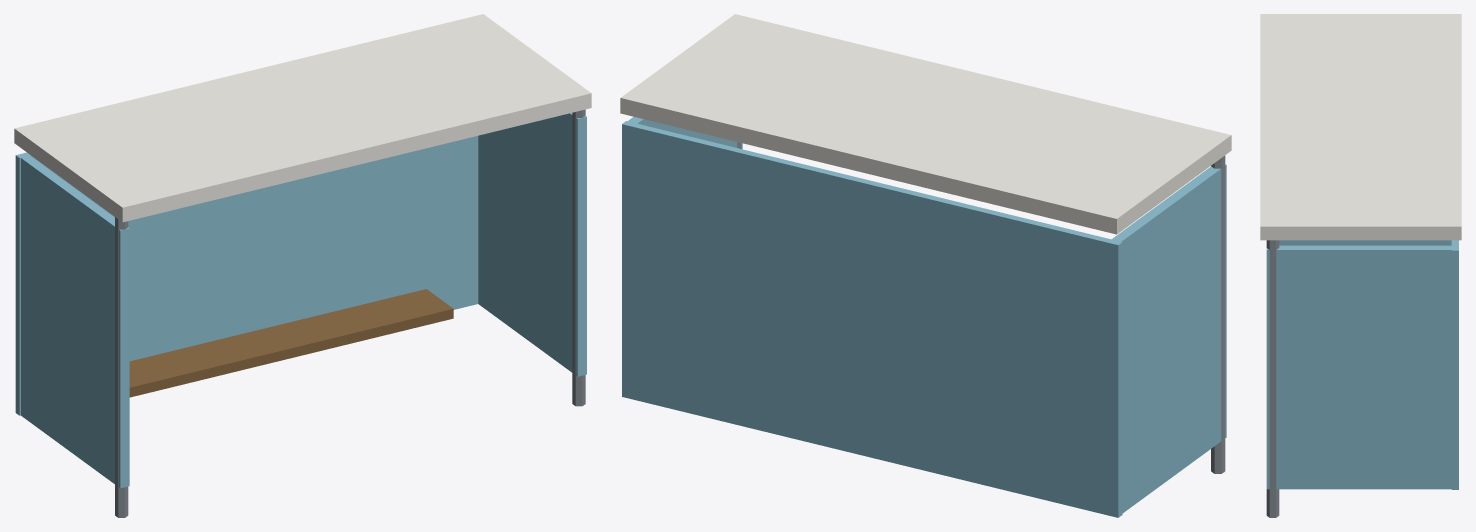
Rendered from bus_shelter.glb.
The picture shows the model from 3 angles, left to right: view 1: azimuth 30°, elevation 25°; view 2: azimuth 150°, elevation 25°; view 3: azimuth 270°, elevation 25°; orthographic projection. The views are drawn at different scales.
Visible parts, largest first — view 1: Cube.001; view 2: Cube.001; view 3: Cube.001.
Boxes of the visible parts, box(x1,y1,x2,y2) form: Cube.001: box(14, 14, 591, 517); Cube.001: box(620, 14, 1231, 517); Cube.001: box(1260, 14, 1461, 517).
Bounding box in the file's own units: 4 × 2.56 × 1.6.
